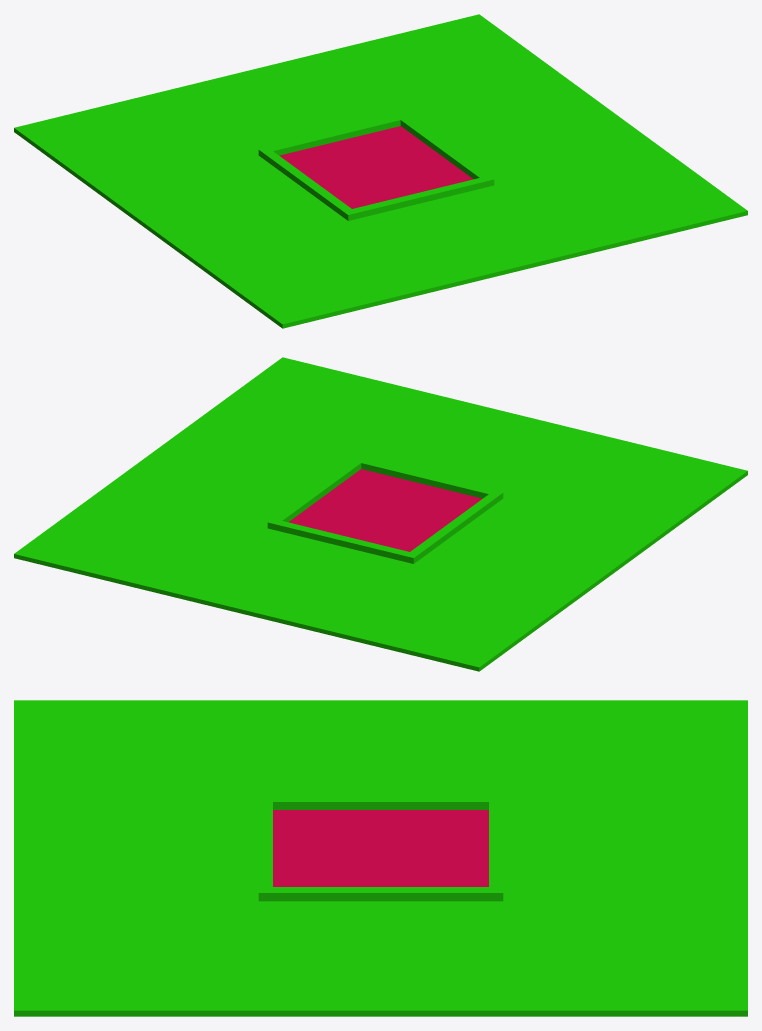
The model's file is Plot 2.fbx.
3 renders of one model, top to bottom at view 1: azimuth 30°, elevation 25°; view 2: azimuth 150°, elevation 25°; view 3: azimuth 270°, elevation 25°, orthographic. The views are drawn at different scales.
Parts seen in each view (by area): view 1: Plot 2; view 2: Plot 2; view 3: Plot 2.
Part boxes in pixels (x1,y1,x2,y2): Plot 2: (14, 14, 747, 328); Plot 2: (14, 357, 747, 671); Plot 2: (14, 700, 747, 1016).
Bounding box in the file's own units: 800 × 16.77 × 800.
